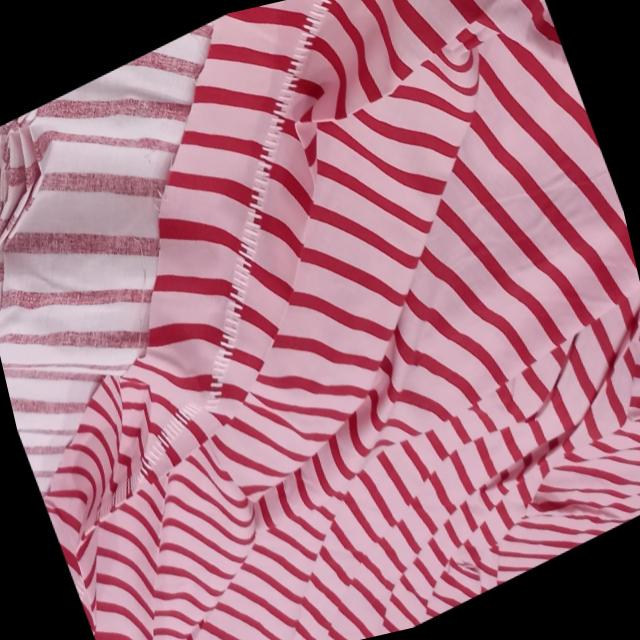gray stitch: (160, 121, 341, 342), (48, 342, 270, 522), (236, 0, 403, 119)
